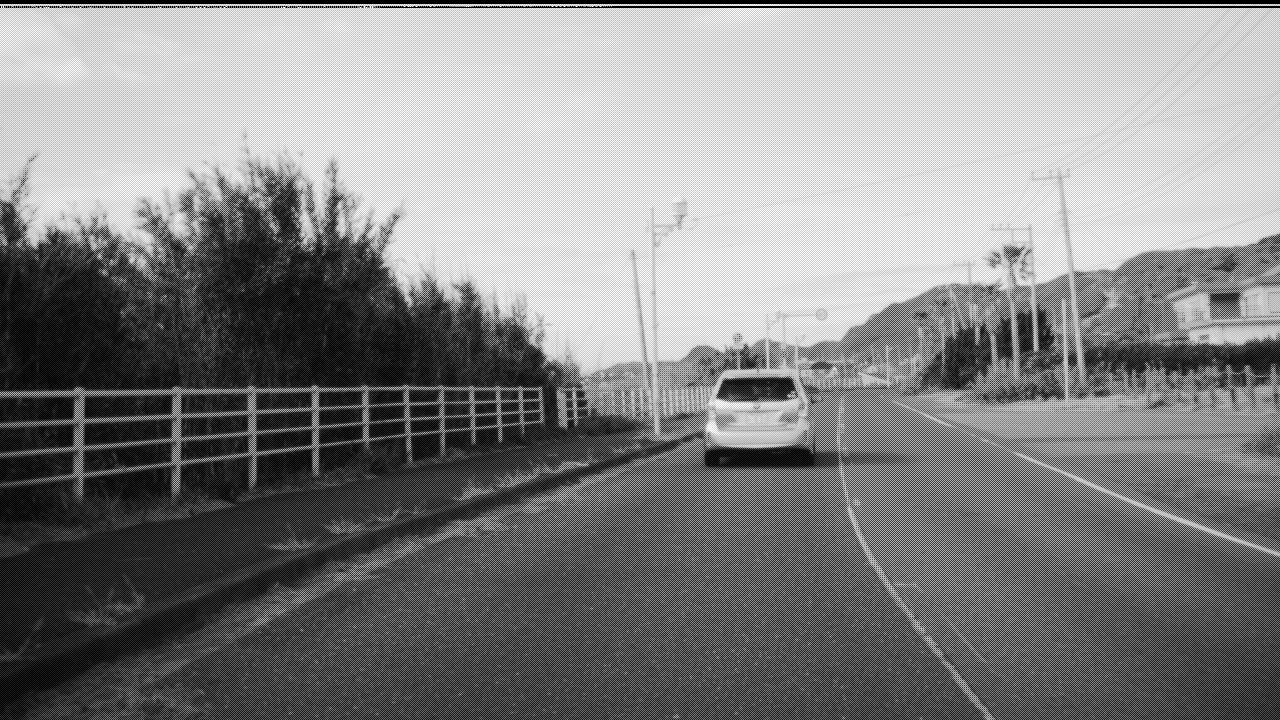pole: (1055, 163, 1091, 384), (648, 198, 661, 427), (1029, 222, 1040, 350), (765, 312, 770, 368)
